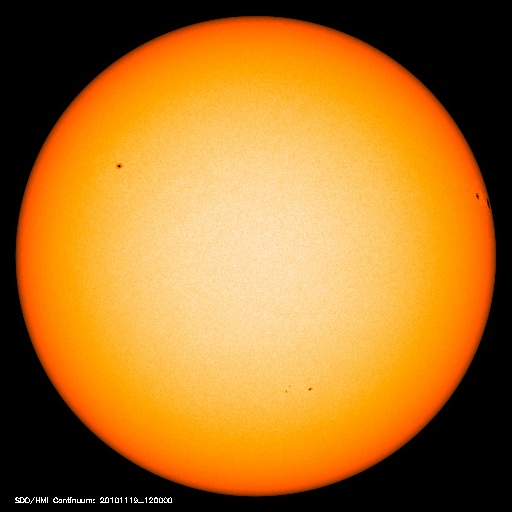sunspot: (277, 377, 322, 401), (465, 182, 497, 215), (105, 153, 135, 178)
